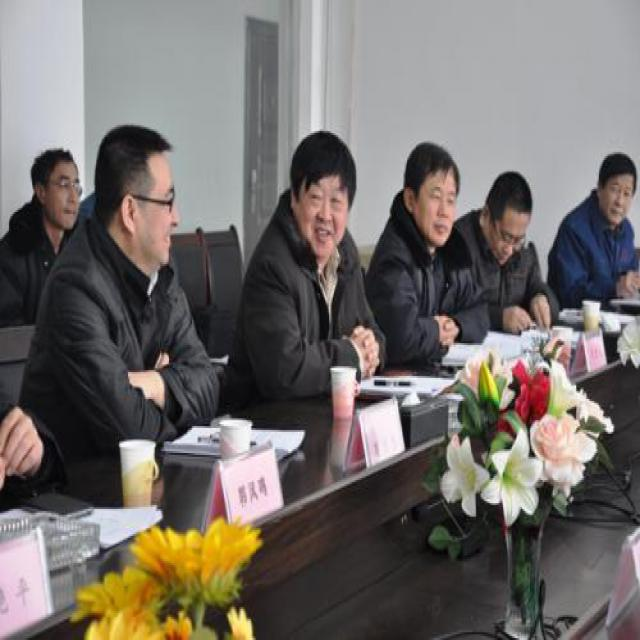head: (96, 120, 183, 273), (283, 119, 360, 263), (399, 134, 464, 248), (482, 163, 536, 261), (28, 140, 84, 226), (590, 148, 637, 227)
person: (43, 127, 236, 475), (229, 130, 377, 387), (365, 127, 486, 357), (446, 162, 559, 339), (541, 138, 640, 316), (4, 133, 90, 335)
